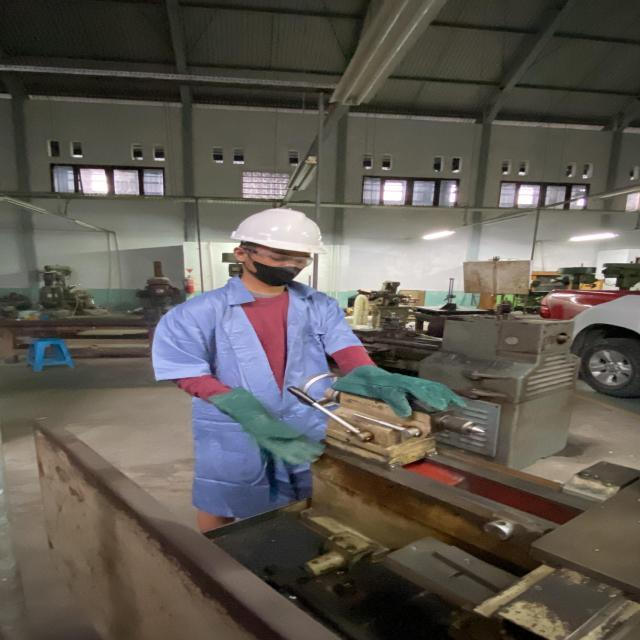glasses: (246, 250, 316, 268)
